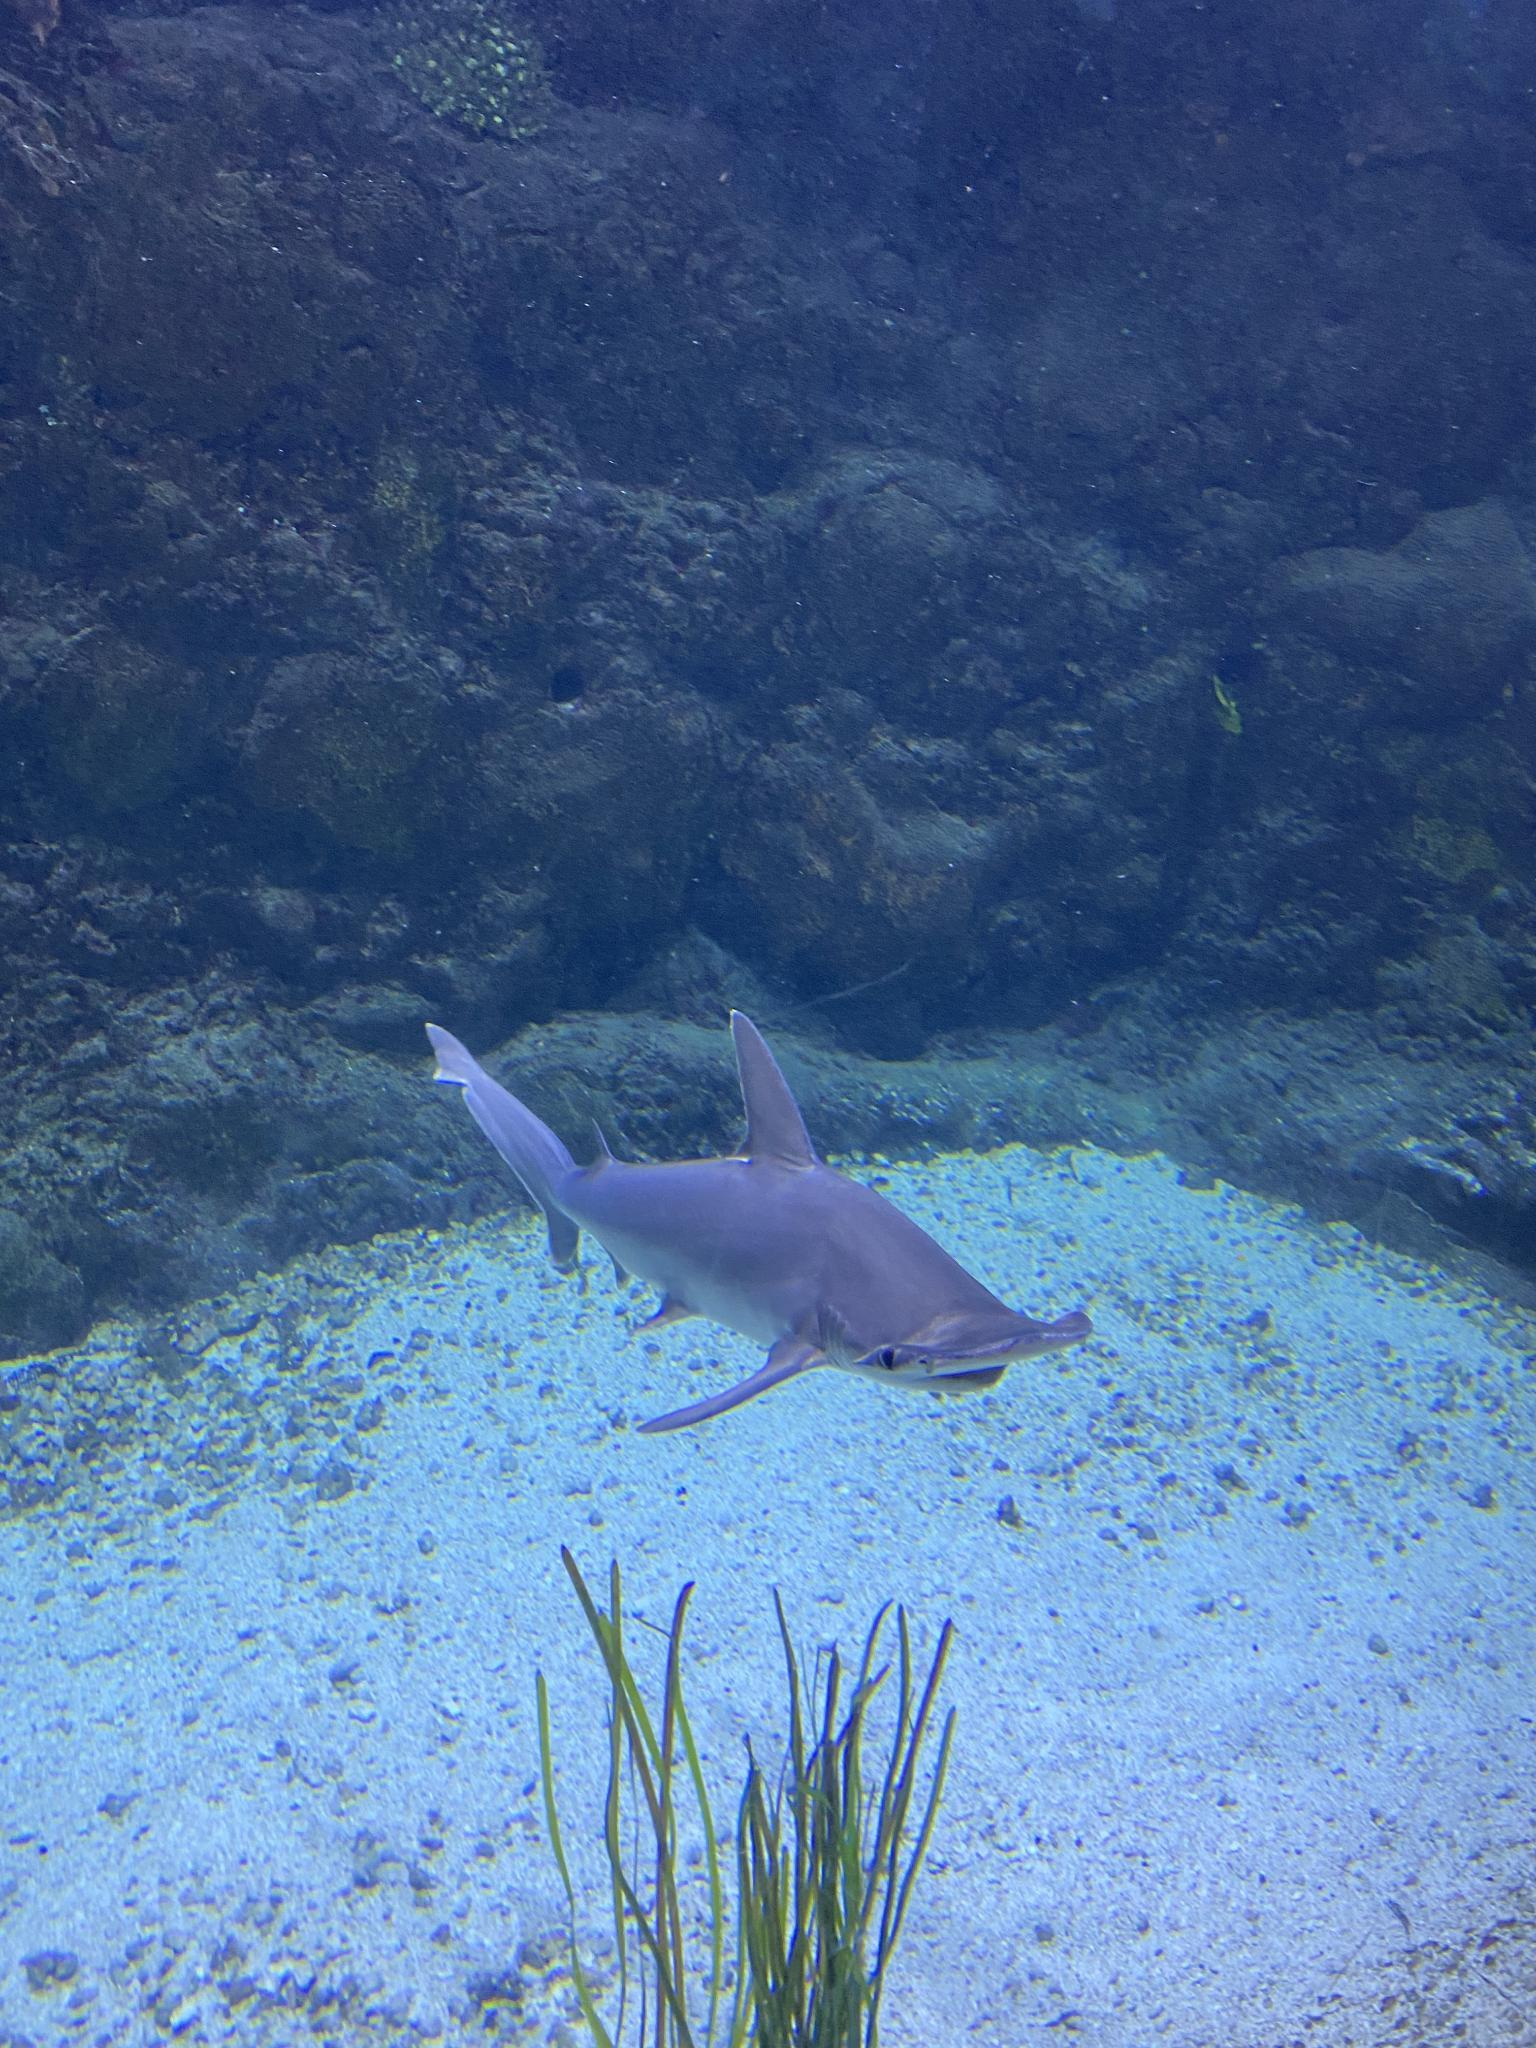shark: (428, 1008, 1092, 1435)
